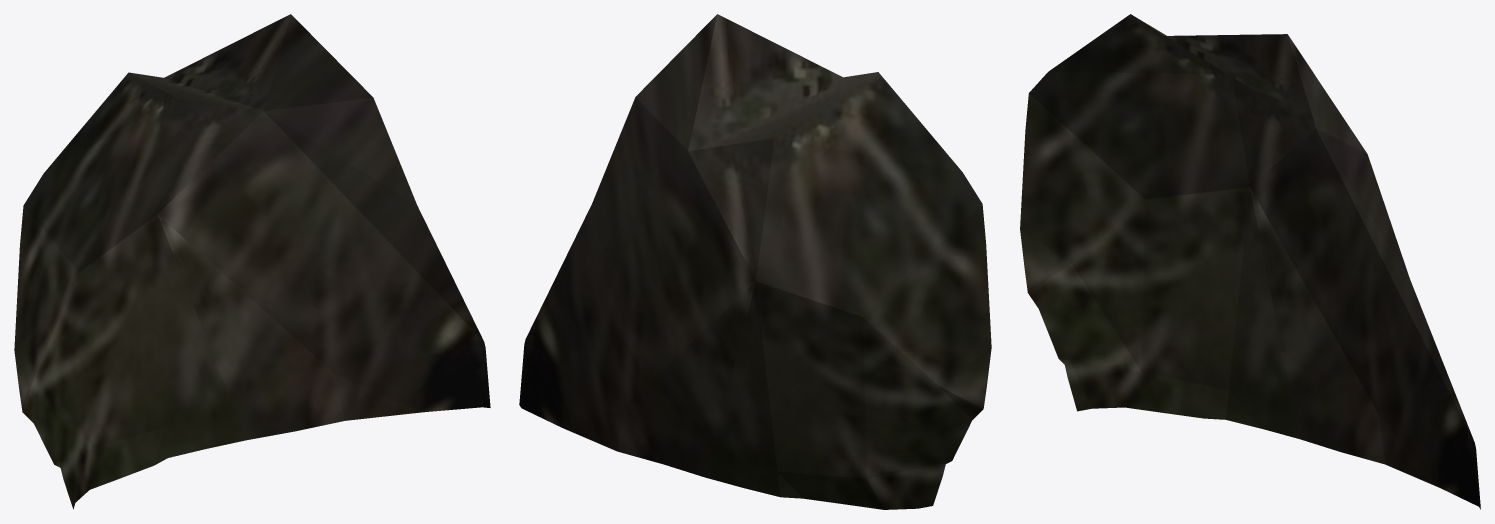
3 renders of one model, left to right at view 1: azimuth 30°, elevation 25°; view 2: azimuth 150°, elevation 25°; view 3: azimuth 330°, elevation 25°, orthographic. The views are drawn at different scales.
Bounding box in the file's own units: 0.4404 × 0.3914 × 0.0757.
Materials: 1 (1 with a texture image).
